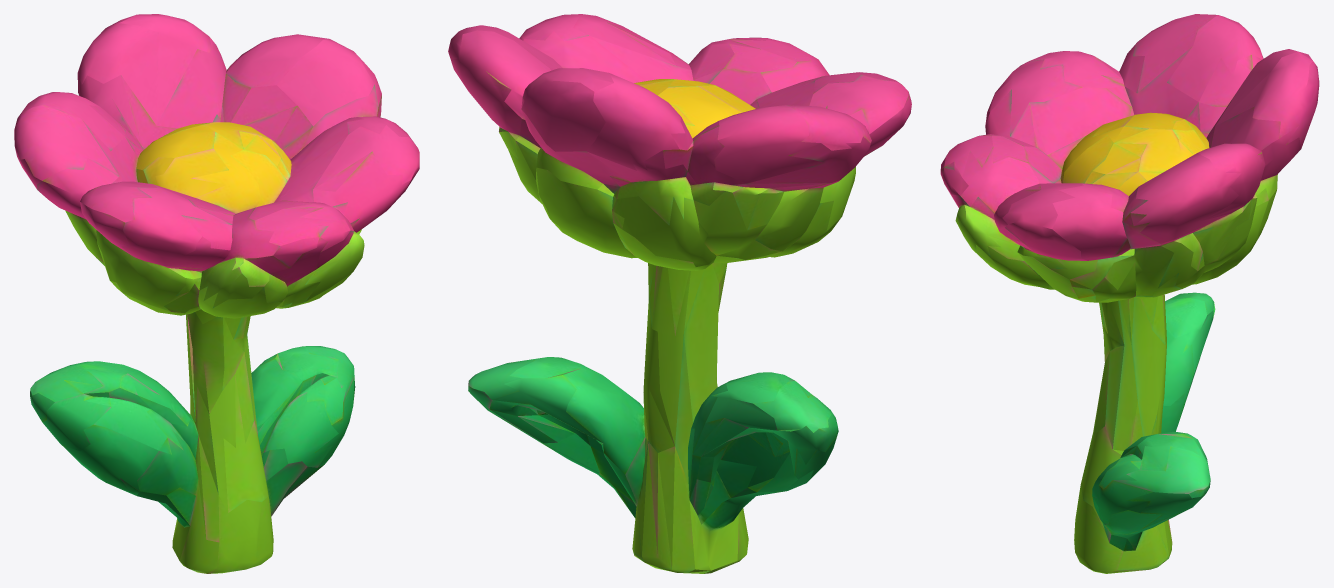
Rendered from bloom.glb.
The picture shows the model from 3 angles, left to right: view 1: azimuth 30°, elevation 25°; view 2: azimuth 150°, elevation 25°; view 3: azimuth 270°, elevation 25°; orthographic projection. The views are drawn at different scales.
Bounding box in the file's own units: 1.46 × 1.89 × 1.31.
1 material, 1 textured.
